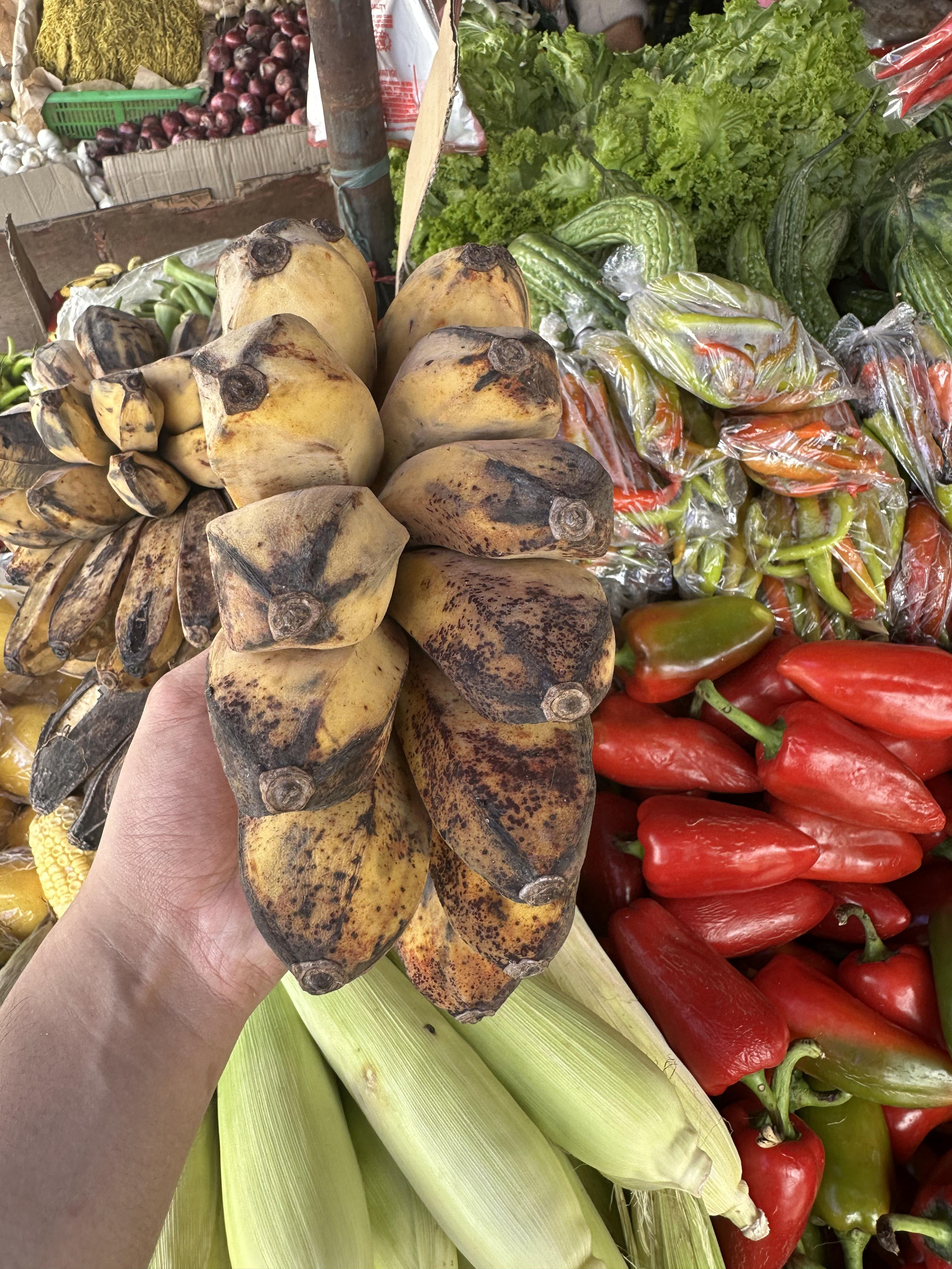ripe: (192, 216, 619, 1026), (3, 490, 232, 694), (0, 345, 222, 549)
